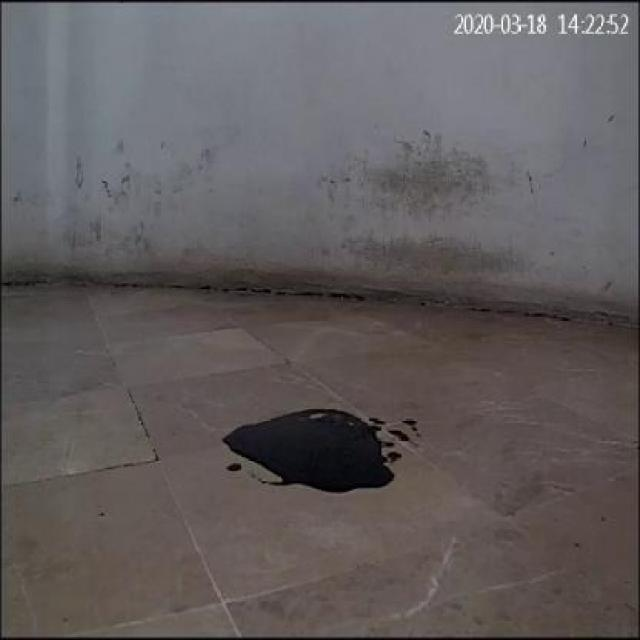spill: (224, 404, 390, 500)
